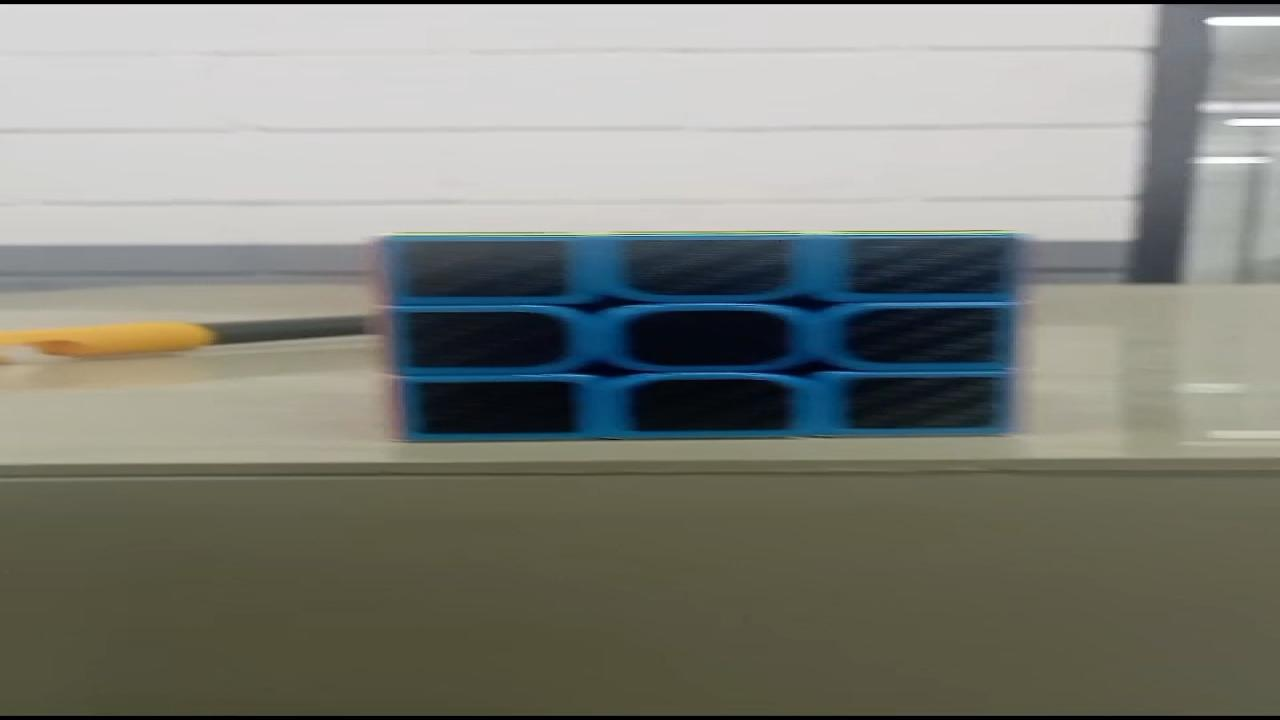Cube: (368, 228, 1029, 442)
